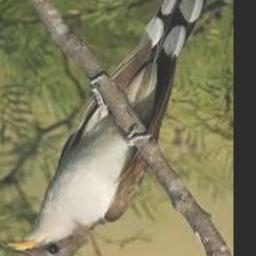Cuckoo: (3, 0, 216, 256)
